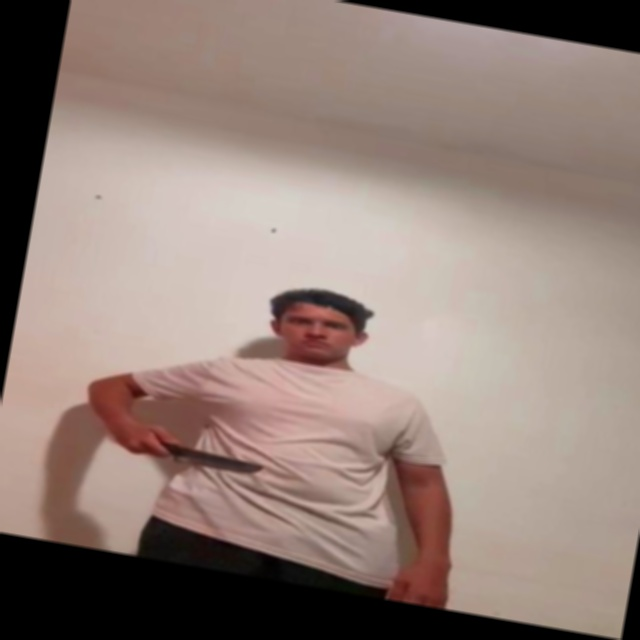Sharp-Object: (177, 445, 261, 478)
